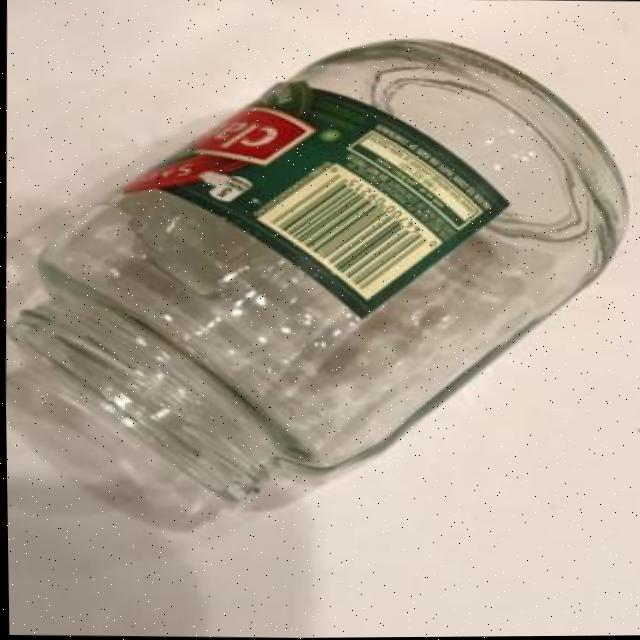glass: (0, 21, 634, 537)
